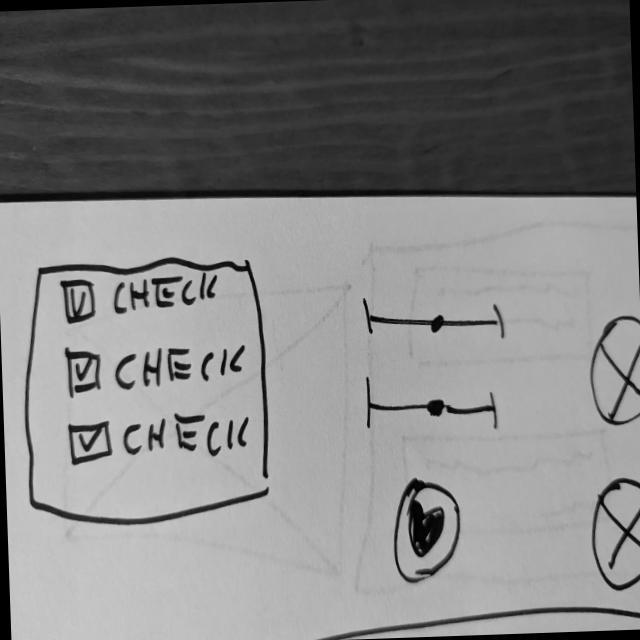container: (16, 252, 275, 533), (61, 273, 220, 326)
